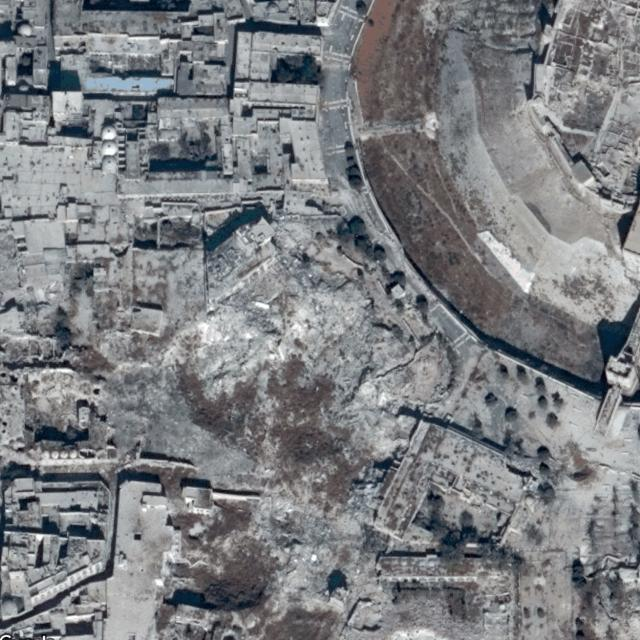damaged_building: (195, 198, 461, 453), (19, 328, 174, 446), (177, 511, 321, 619), (504, 438, 592, 505), (584, 553, 640, 634), (477, 551, 519, 640)
